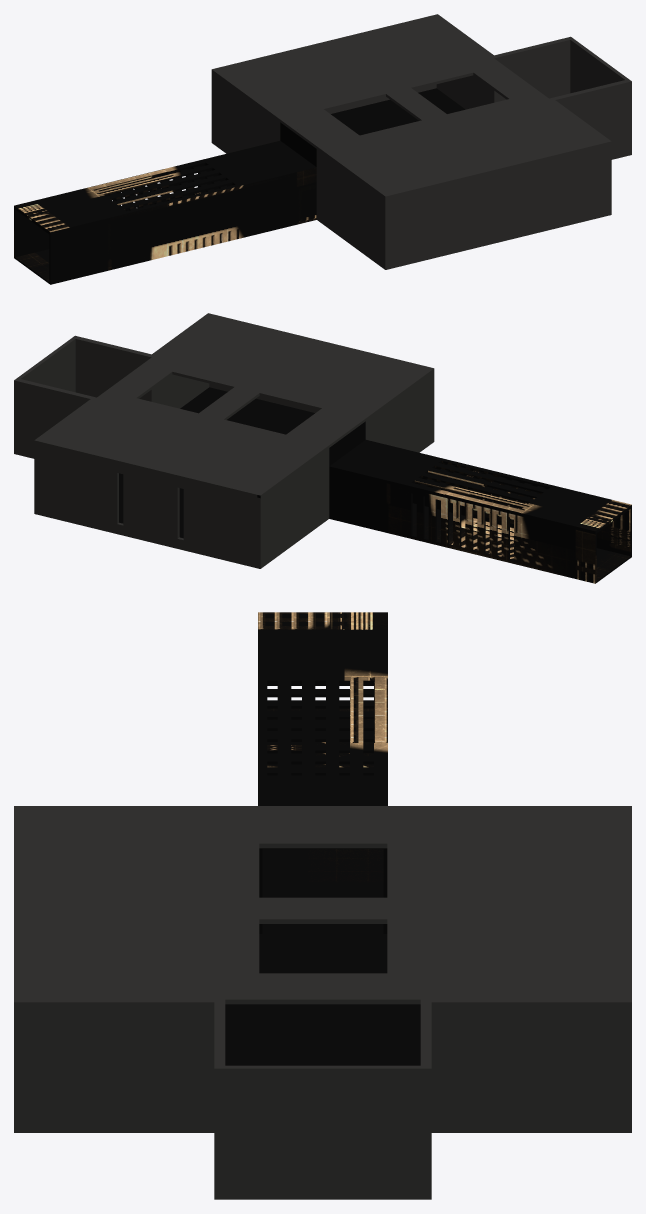
File: room11.glb
3 renders of one model, top to bottom at view 1: azimuth 30°, elevation 25°; view 2: azimuth 150°, elevation 25°; view 3: azimuth 270°, elevation 25°, orthographic. The views are drawn at different scales.
Parts seen in each view (by area): view 1: Plane, Plane.001, Plane.006; view 2: Plane, Plane.001, Plane.006; view 3: Plane, Plane.001, Plane.006.
Part boxes in pixels (x1=…): Plane: x1=211, y1=14, x2=631, y2=269; Plane.001: x1=14, y1=140, x2=316, y2=284; Plane.006: x1=331, y1=88, x2=465, y2=135; Plane: x1=14, y1=313, x2=434, y2=568; Plane.001: x1=329, y1=439, x2=631, y2=583; Plane.006: x1=119, y1=387, x2=314, y2=538; Plane: x1=14, y1=806, x2=631, y2=1199; Plane.001: x1=258, y1=612, x2=387, y2=933; Plane.006: x1=225, y1=934, x2=420, y2=1065.
Bounding box in the file's own units: 11.12 × 1.38 × 5.88.
Materials: 5 (4 with a texture image).
